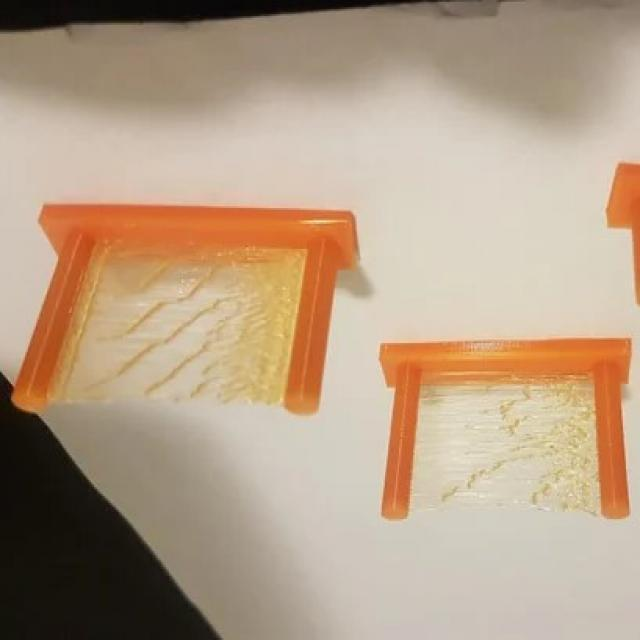stringing: (53, 232, 311, 408), (407, 364, 606, 520)
